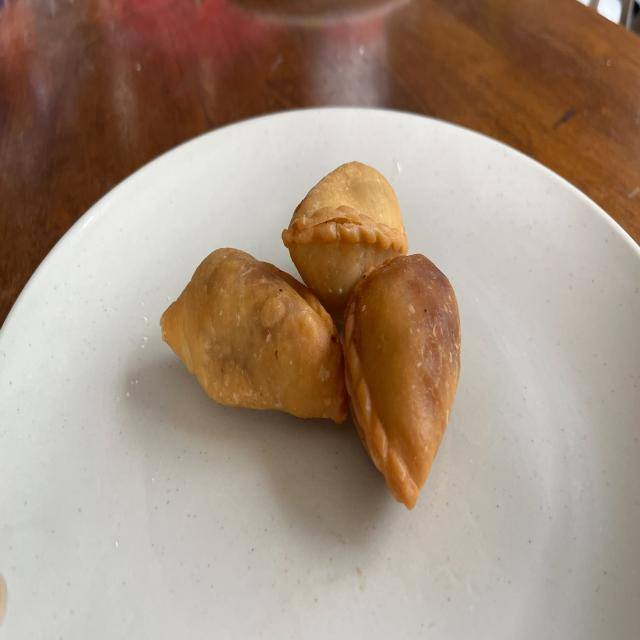karipap: (160, 249, 348, 422), (342, 253, 461, 509), (282, 162, 409, 324)
